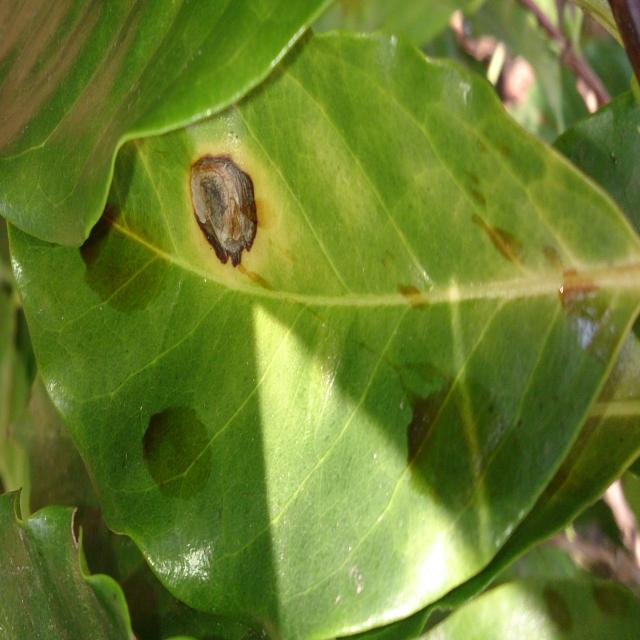Enfermedad-Mancha-de-hierro: (5, 16, 640, 640)
